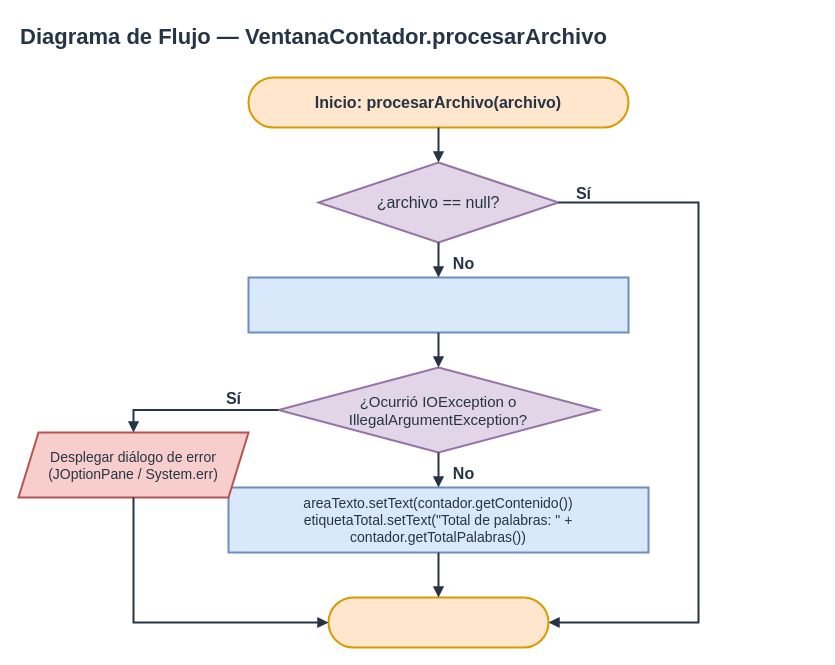
This 835x665 diagram has some shape labels left out. The box of each missing label's shape, as (x1, y1, x2, y2) in pixels:
Fin procesarArchivo: (327, 596, 549, 648)
Invocación contador.cargarArchivo(archivo): (247, 276, 629, 333)
